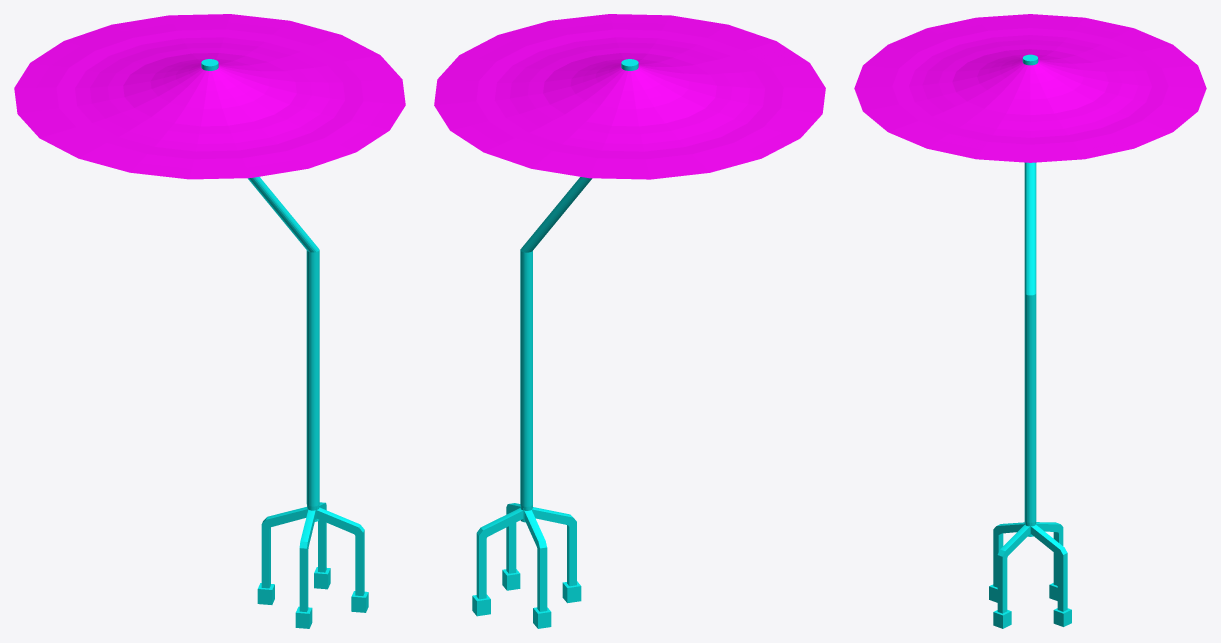
Rendered from PLATILLO_1.fbx.
The picture shows the model from 3 angles, left to right: view 1: azimuth 30°, elevation 25°; view 2: azimuth 150°, elevation 25°; view 3: azimuth 270°, elevation 25°; orthographic projection. The views are drawn at different scales.
Parts seen in each view (by area): view 1: pCylinder36; view 2: pCylinder36; view 3: pCylinder36.
Part boxes in pixels (x1,y1,x2,y2): pCylinder36: (14, 14, 405, 628); pCylinder36: (434, 14, 825, 628); pCylinder36: (854, 14, 1206, 628).
Bounding box in the file's own units: 6.9 × 10.99 × 6.9.
Materials: 2 (2 with a texture image).
